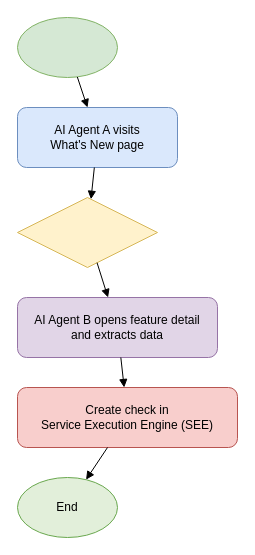
Some shapes in this 255 by 555 pixel diagram are drawn without their labels. Here are the shapes that lost their labels. From the top down, the centre of each, then its label:
the point at 67,47: Start
the point at 87,232: For each feature on page
